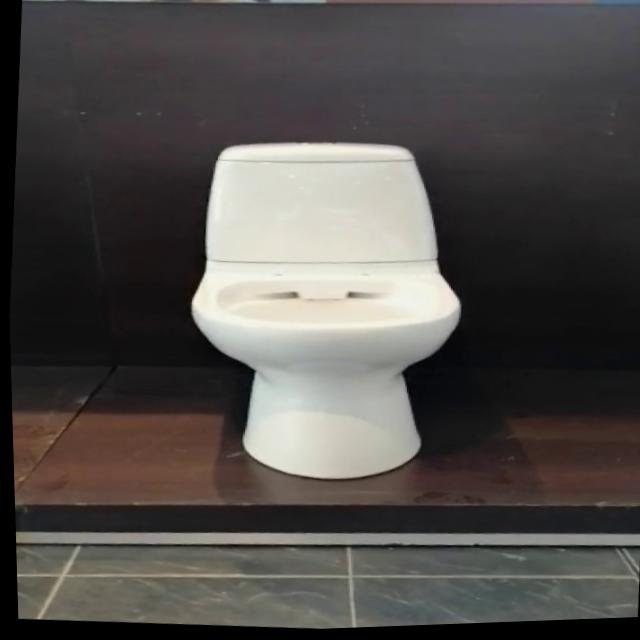toilet: (170, 129, 474, 495)
